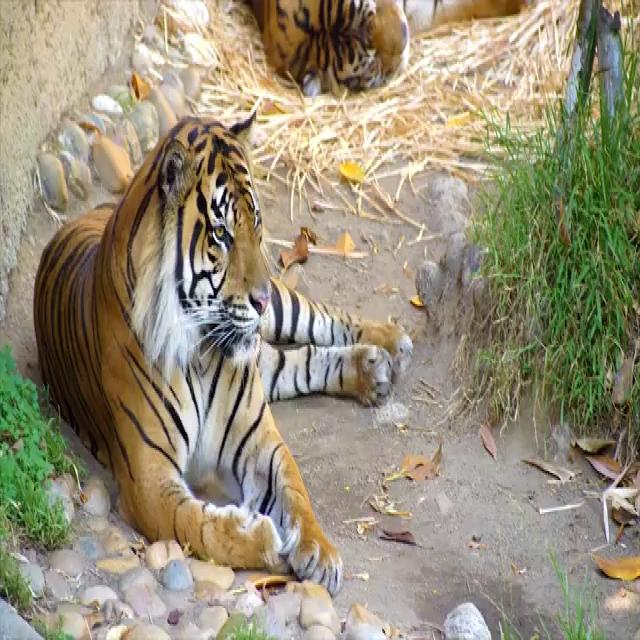tiger: (31, 110, 413, 596)
